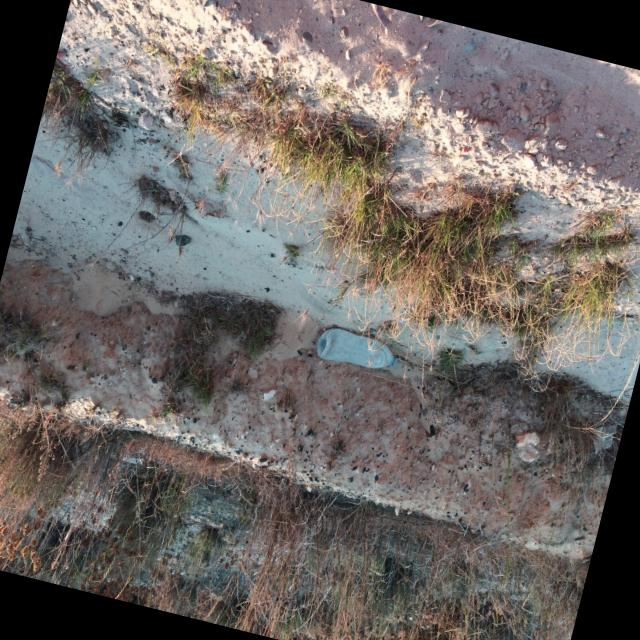less trash: (316, 327, 397, 368)
